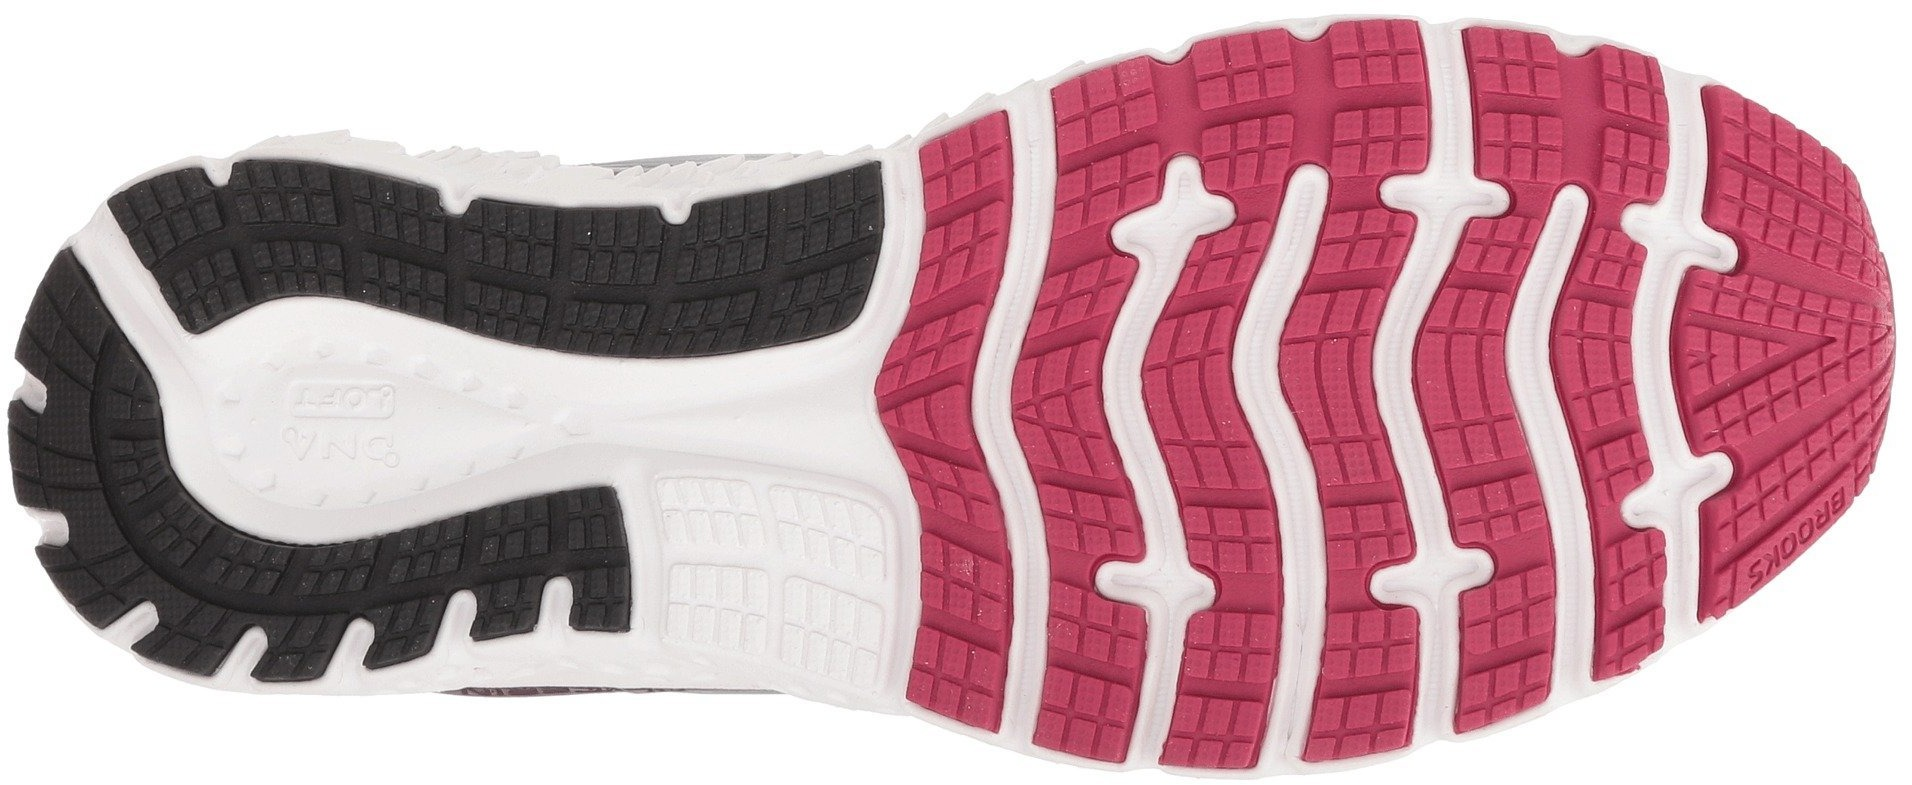chevron: (897, 347, 1097, 564)
quad: (1158, 297, 1401, 520), (897, 347, 1097, 564), (665, 475, 846, 658), (1464, 29, 1645, 199), (479, 204, 639, 353), (1183, 35, 1336, 182), (1711, 278, 1855, 432), (259, 158, 404, 304), (700, 204, 821, 336), (1664, 293, 1800, 410), (167, 499, 283, 627)
text: (291, 383, 389, 475)
triangle: (1711, 278, 1855, 432), (1664, 293, 1800, 410)
